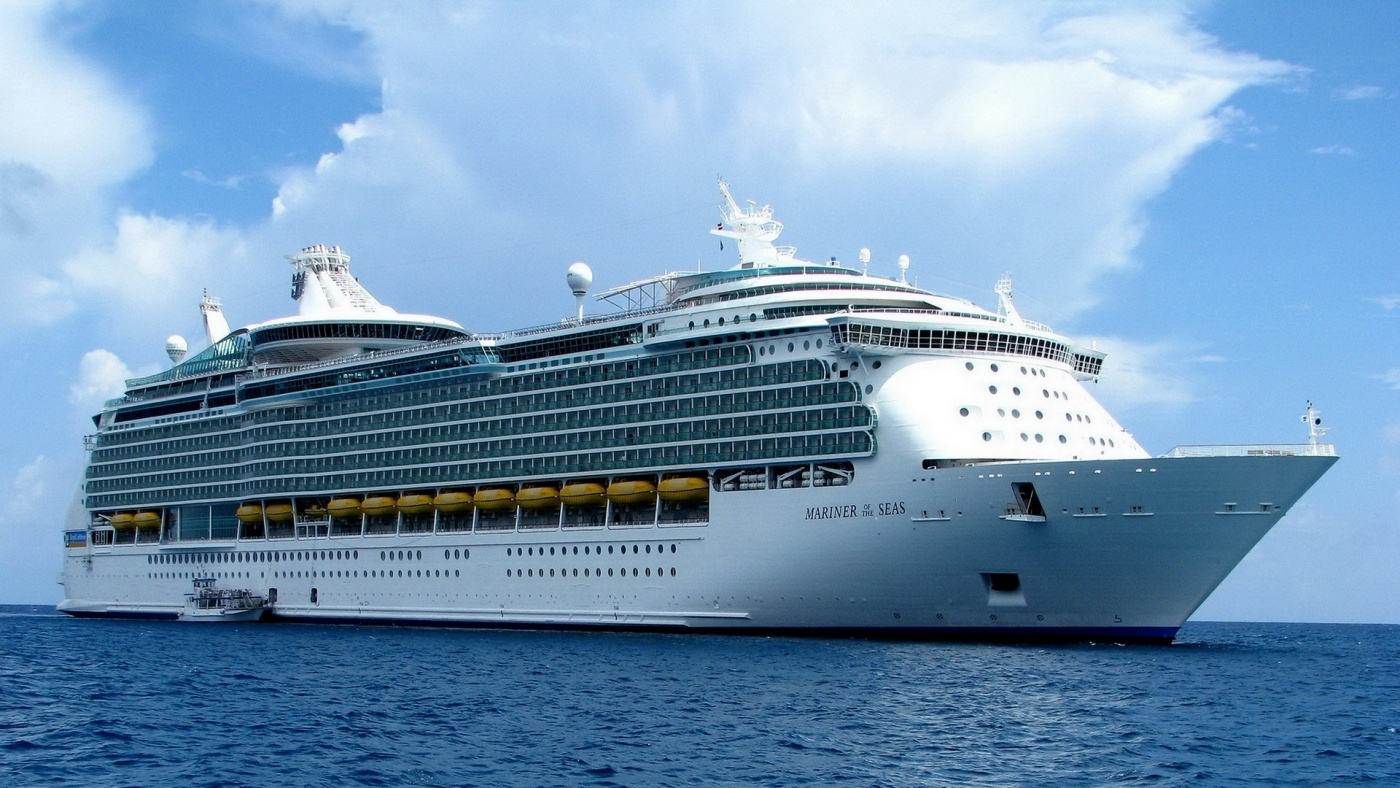otherboat: (169, 569, 267, 629)
youlun: (33, 224, 1338, 649)
